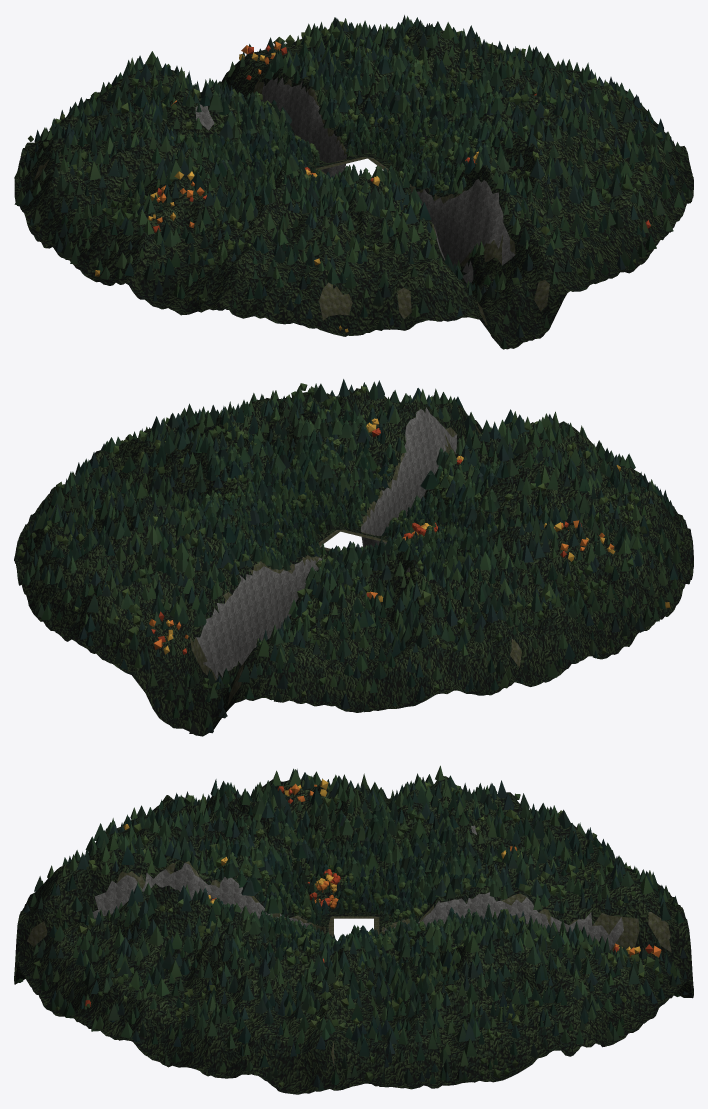
File: backdrop_near_rect_briarE_summer.glb
The picture shows the model from 3 angles, top to bottom: view 1: azimuth 30°, elevation 25°; view 2: azimuth 150°, elevation 25°; view 3: azimuth 270°, elevation 25°; orthographic projection.
Visible parts, largest first — view 1: near_land_S, trees_land_W_0, near_land_W, trees_land_S_0, trees_land_E_0, trees_land_N_0, near_land_E, near_land_N; view 2: near_land_N, trees_land_N_0, near_land_W, trees_land_W_0, trees_land_E_0, trees_land_S_0, near_land_S, near_land_E; view 3: near_land_E, trees_land_E_0, trees_land_W_0, near_land_S, trees_land_N_0, trees_land_S_0, near_land_N, near_land_W.
Boxes of the visible parts, box(x1,y1,x2,y2) form: near_land_S: box(265, 126, 682, 349); trees_land_W_0: box(14, 90, 325, 308); near_land_W: box(14, 101, 320, 318); trees_land_S_0: box(273, 116, 673, 349); trees_land_E_0: box(368, 20, 692, 207); trees_land_N_0: box(28, 15, 432, 165); near_land_E: box(363, 25, 693, 216); near_land_N: box(26, 25, 434, 176); near_land_N: box(26, 512, 442, 736); trees_land_N_0: box(35, 499, 442, 734); near_land_W: box(390, 462, 693, 695); trees_land_W_0: box(383, 452, 684, 691); trees_land_E_0: box(16, 390, 343, 585); trees_land_S_0: box(274, 379, 674, 538); near_land_S: box(276, 388, 677, 547); near_land_E: box(14, 398, 346, 594); near_land_E: box(114, 915, 594, 1094); trees_land_E_0: box(120, 910, 585, 1090); trees_land_W_0: box(137, 765, 562, 915); near_land_S: box(14, 816, 330, 1039); trees_land_N_0: box(383, 809, 692, 1041); trees_land_S_0: box(14, 807, 323, 1031); near_land_N: box(379, 819, 693, 1047); near_land_W: box(140, 776, 593, 920).
Bounding box in the file's own units: 577 × 177 × 576.
Materials: 4 (3 with a texture image).
